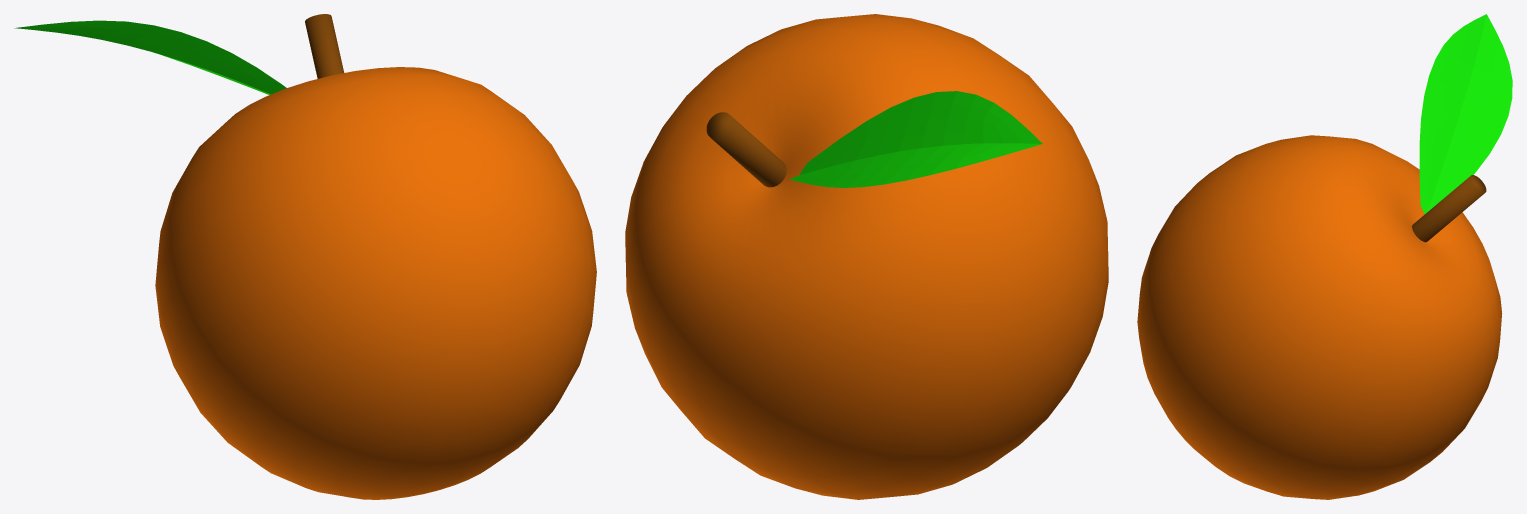
File: Orange.fbx
3 views of the same model, side by side, from view 1: azimuth 30°, elevation 25°; view 2: azimuth 150°, elevation 25°; view 3: azimuth 270°, elevation 25° (orthographic). The views are drawn at different scales.
Visible parts, largest first — view 1: Orange; view 2: Orange; view 3: Orange.
Boxes of the visible parts, left/top/right/bottom form: Orange: left=14, top=14, right=596, bottom=499; Orange: left=625, top=14, right=1108, bottom=499; Orange: left=1137, top=14, right=1512, bottom=499.
Size of the model in its own units: 4.5 by 4.25 by 3.92.
